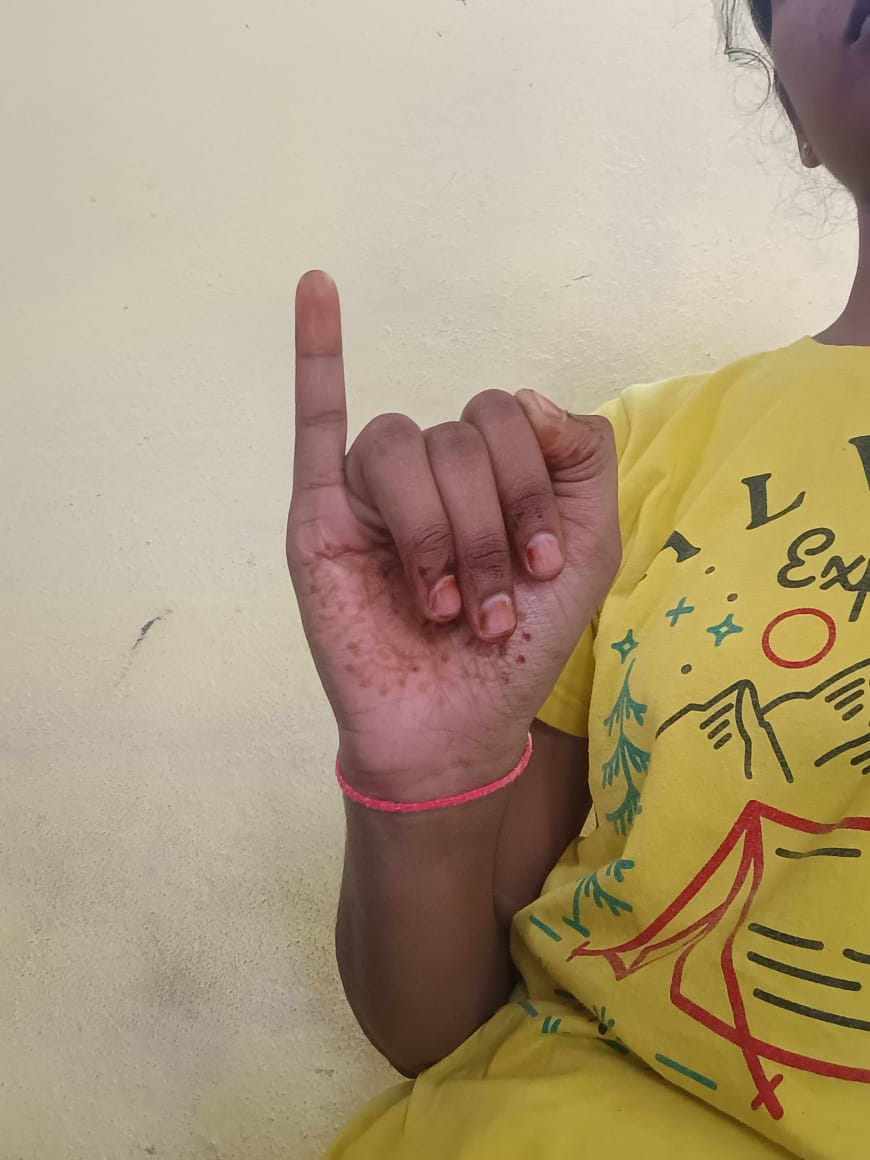I: (287, 270, 618, 770)
